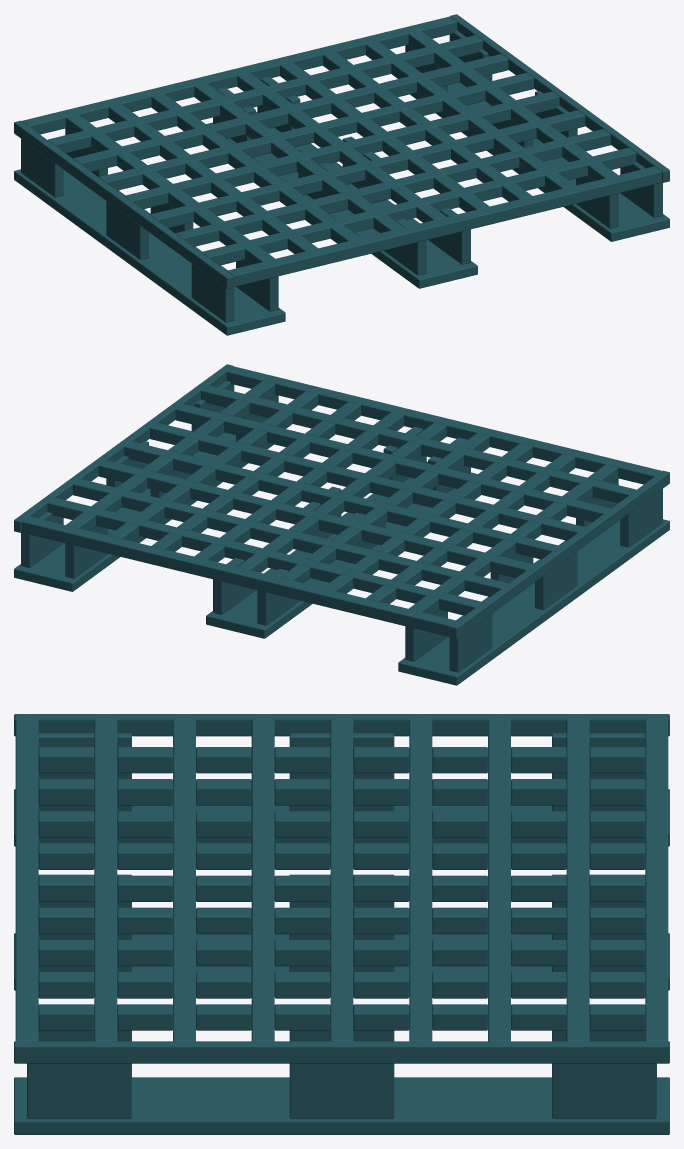
Rendered from plastic-pallet.glb.
3 renders of one model, top to bottom at view 1: azimuth 30°, elevation 25°; view 2: azimuth 150°, elevation 25°; view 3: azimuth 270°, elevation 25°, orthographic. The views are drawn at different scales.
Parts seen in each view (by area): view 1: Deck_Rib_X, Bottom_Runner.001, Deck_Rib_X.002, Deck_Rib_X.003, Deck_Rib_X.005, Deck_Rib_X.006, Deck_Rib_X.007, Deck_Rib_X.004, Deck_Rib_X.008, Deck_Rib_X.001, Deck_Edge, Bottom_Runner.002 (+10 smaller); view 2: Deck_Rib_X.008, Bottom_Runner.001, Deck_Rib_X.006, Deck_Rib_X.005, Deck_Rib_X.003, Deck_Rib_X.002, Deck_Rib_X.001, Deck_Rib_X.004, Deck_Rib_X, Deck_Rib_X.007, Deck_Edge, Bottom_Runner.002 (+10 smaller); view 3: Bottom_Runner, Deck_Edge.001, Deck_Edge, Deck_Rib_X, Deck_Rib_X.008, Deck_Rib_X.001, Deck_Rib_X.003, Deck_Rib_X.004, Deck_Rib_X.005, Deck_Rib_X.007, Deck_Rib_X.002, Deck_Rib_X.006 (+90 smaller).
Boxes of the visible parts, x1,y1,x2,y2 form: Deck_Rib_X: [227, 166, 661, 286]; Bottom_Runner.001: [14, 169, 285, 335]; Deck_Rib_X.002: [175, 129, 610, 246]; Deck_Rib_X.003: [150, 110, 585, 228]; Deck_Rib_X.005: [99, 72, 533, 190]; Deck_Rib_X.006: [73, 54, 508, 171]; Deck_Rib_X.007: [48, 35, 482, 153]; Deck_Rib_X.004: [124, 91, 559, 209]; Deck_Rib_X.008: [22, 16, 457, 134]; Deck_Rib_X.001: [201, 147, 636, 265]; Deck_Edge: [14, 120, 233, 289]; Bottom_Runner.002: [206, 111, 477, 288]; Deck_Rib_X.008: [22, 516, 456, 636]; Bottom_Runner.001: [398, 519, 669, 685]; Deck_Rib_X.006: [73, 479, 508, 596]; Deck_Rib_X.005: [98, 460, 533, 578]; Deck_Rib_X.003: [150, 422, 584, 540]; Deck_Rib_X.002: [175, 404, 610, 521]; Deck_Rib_X.001: [201, 385, 635, 503]; Deck_Rib_X.004: [124, 441, 559, 559]; Deck_Rib_X: [226, 366, 661, 484]; Deck_Rib_X.007: [47, 497, 482, 615]; Deck_Edge: [450, 470, 669, 639]; Bottom_Runner.002: [206, 461, 477, 638]; Bottom_Runner: [14, 1077, 669, 1134]; Deck_Edge.001: [14, 1041, 669, 1063]; Deck_Edge: [14, 714, 669, 736]; Deck_Rib_X: [15, 719, 38, 1041]; Deck_Rib_X.008: [645, 719, 668, 1041]; Deck_Rib_X.001: [94, 719, 117, 1041]; Deck_Rib_X.003: [251, 719, 274, 1041]; Deck_Rib_X.004: [330, 719, 353, 1041]; Deck_Rib_X.005: [409, 719, 432, 1041]; Deck_Rib_X.007: [566, 719, 589, 1041]; Deck_Rib_X.002: [173, 719, 195, 1041]; Deck_Rib_X.006: [488, 719, 510, 1041].
Bounding box in the file's own units: 1.2 × 0.15 × 1.
